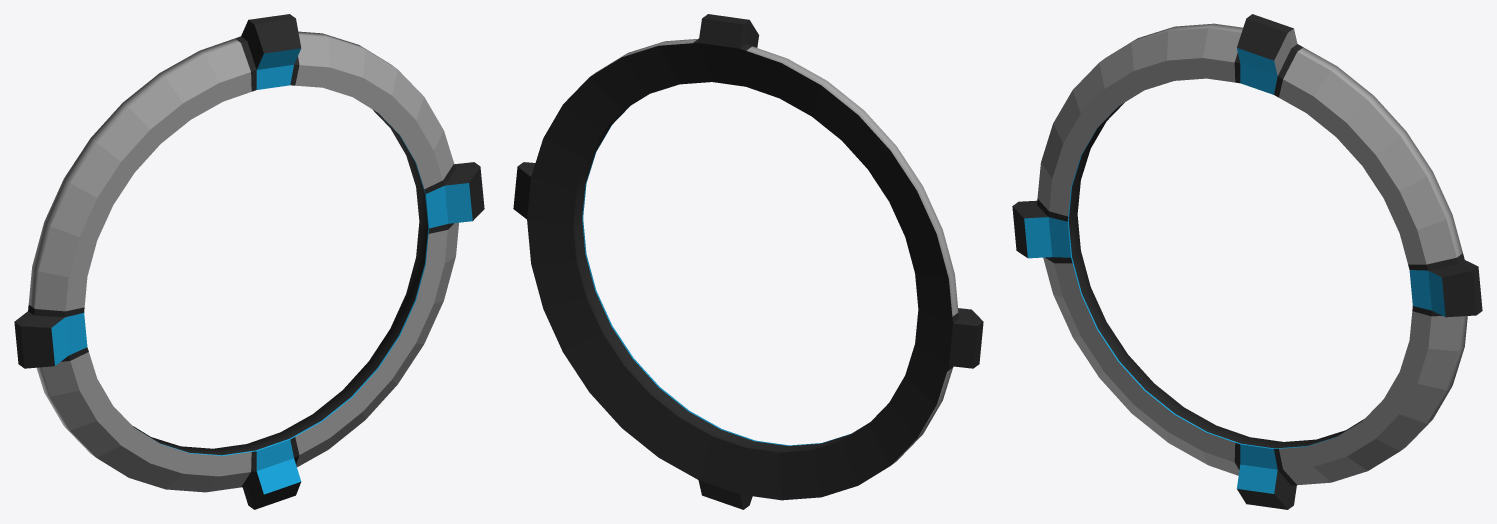
File: Deck3.fbx
The picture shows the model from 3 angles, left to right: view 1: azimuth 30°, elevation 25°; view 2: azimuth 150°, elevation 25°; view 3: azimuth 330°, elevation 25°; orthographic projection.
Parts seen in each view (by area): view 1: Deck; view 2: Deck; view 3: Deck.
Part boxes in pixels (<box>): Deck: <box>14,14,484,509</box>; Deck: <box>513,14,983,509</box>; Deck: <box>1012,14,1482,509</box>.
Size of the model in its own units: 218 by 218 by 17.13.
